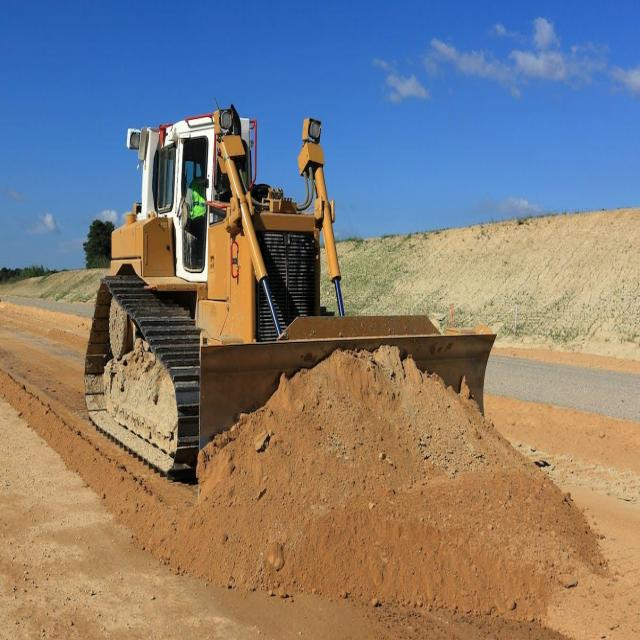Bulldozer: (78, 66, 518, 552)
